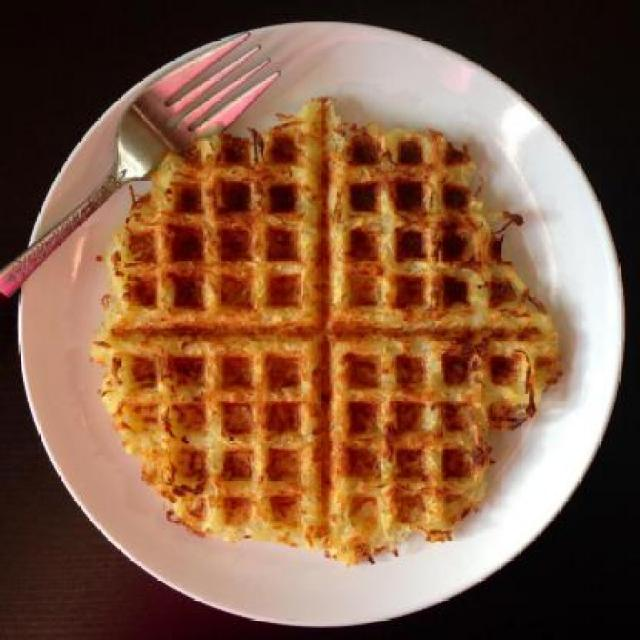Waffle: (90, 96, 561, 566)
